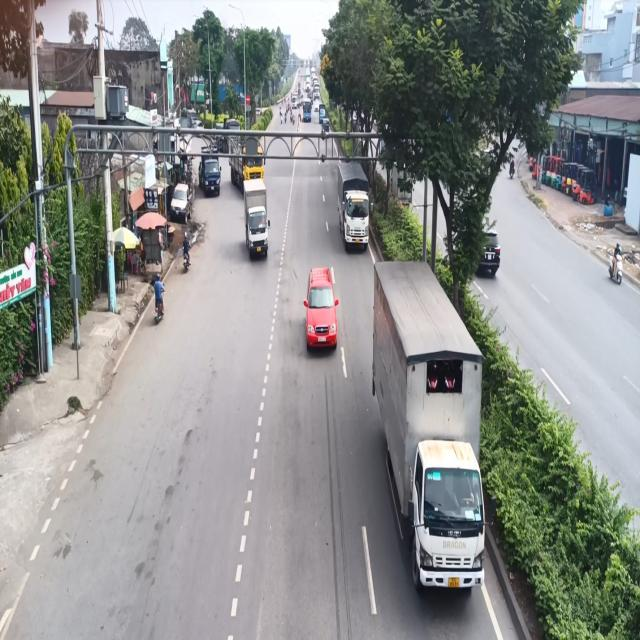car: (302, 258, 341, 368)
motor: (148, 270, 166, 323)
truck: (368, 254, 494, 615), (333, 162, 373, 255), (242, 172, 272, 263)
